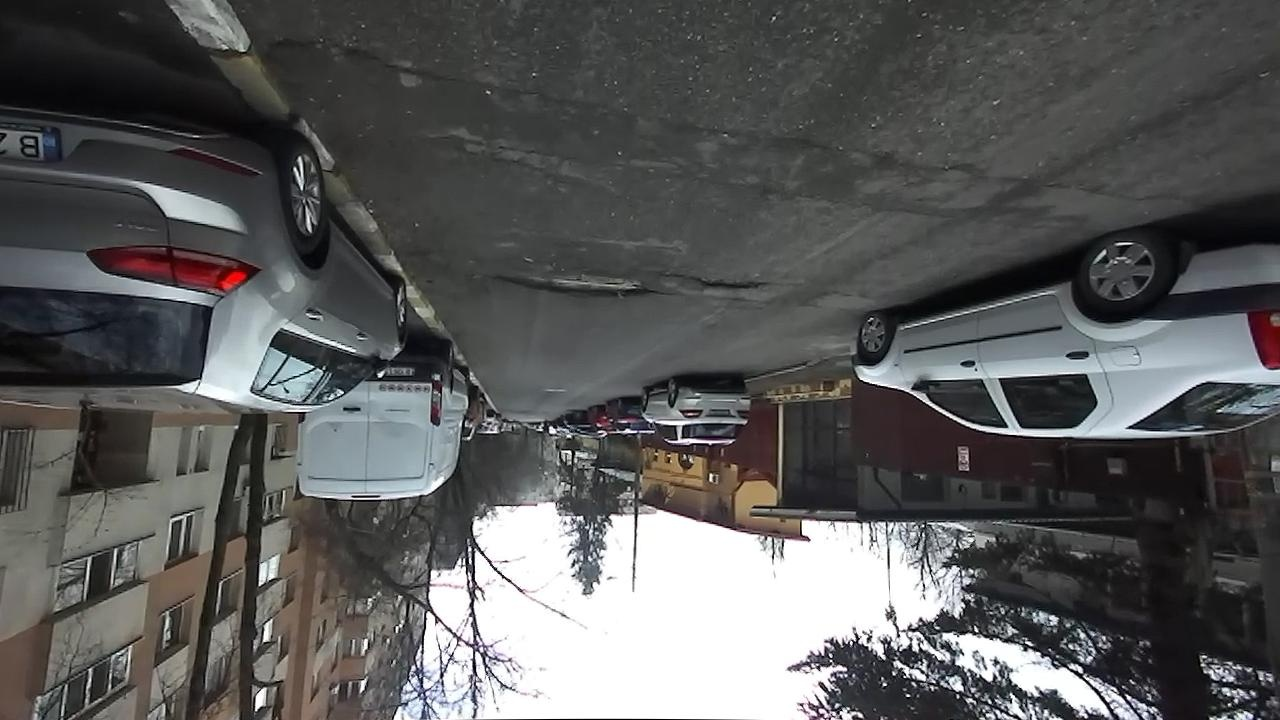pothole: (276, 26, 441, 85), (492, 267, 673, 301), (686, 269, 771, 292)
